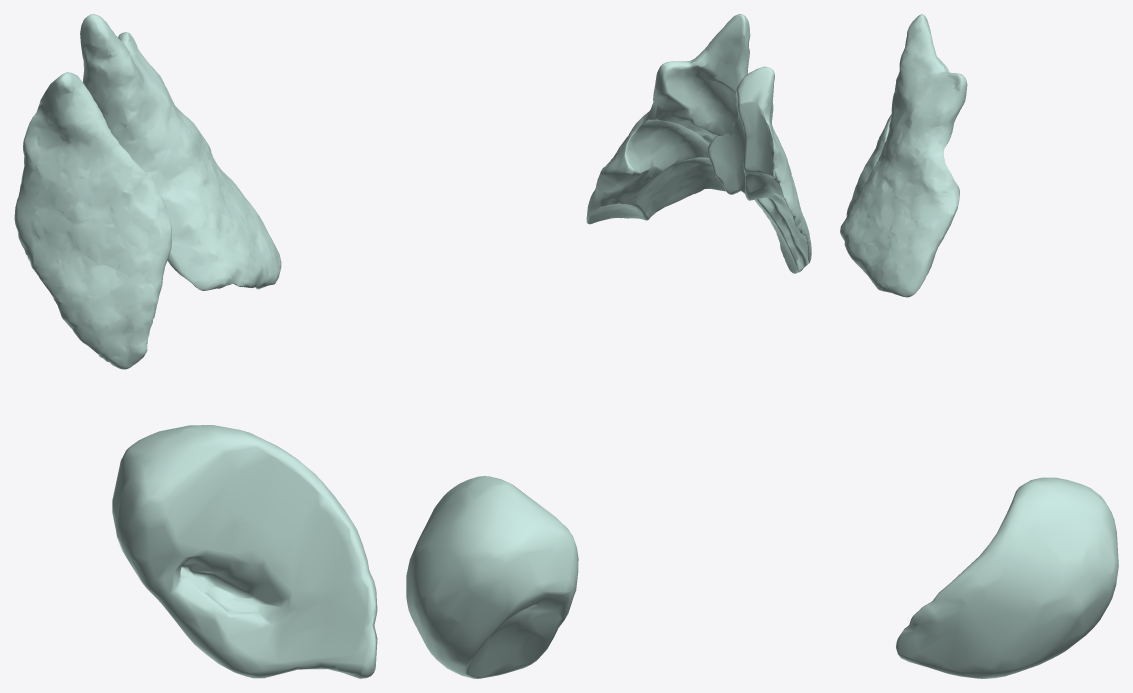
The model's file is linfatico.glb.
3 renders of one model, left to right at view 1: azimuth 30°, elevation 25°; view 2: azimuth 150°, elevation 25°; view 3: azimuth 270°, elevation 25°, orthographic. The views are drawn at different scales.
Parts seen in each view (by area): view 1: FMA7196, FMA71194, FMA71195; view 2: FMA7196, FMA71195, FMA71194; view 3: FMA7196, FMA71195, FMA71194.
Part boxes in pixels (box(x1,y1,x2,y2)): FMA7196: box(112, 425, 377, 678); FMA71194: box(14, 72, 171, 369); FMA71195: box(80, 14, 281, 290); FMA7196: box(406, 476, 578, 678); FMA71195: box(586, 14, 750, 224); FMA71194: box(707, 66, 811, 273); FMA7196: box(896, 477, 1118, 678); FMA71195: box(840, 14, 967, 297); FMA71194: box(844, 57, 949, 247).
Bounding box in the file's own units: 0.1433 × 0.2777 × 0.124.
